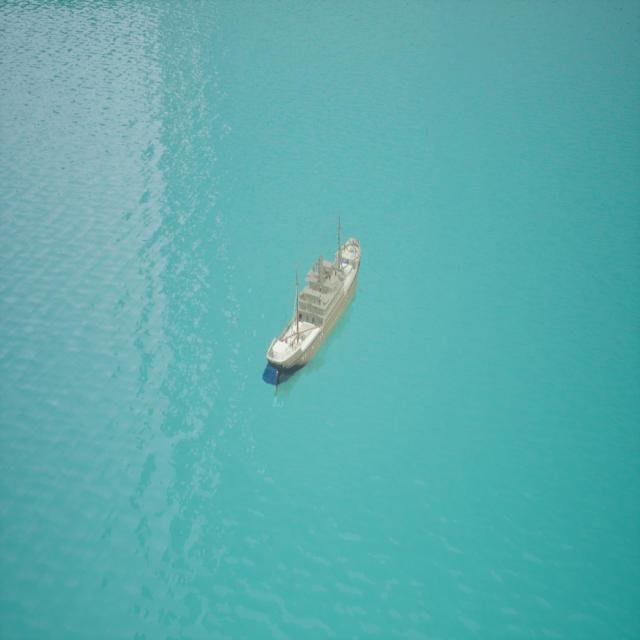fishing ship: (266, 239, 363, 395)
